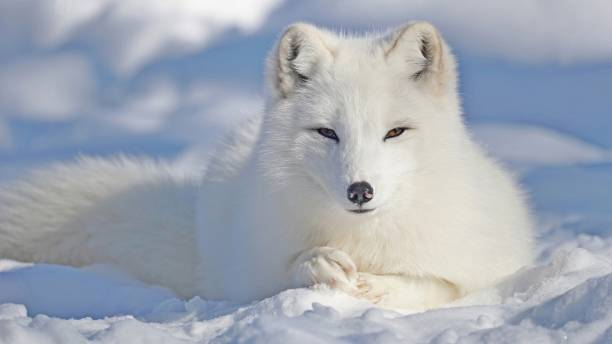arcticfox: (284, 67, 462, 243)
